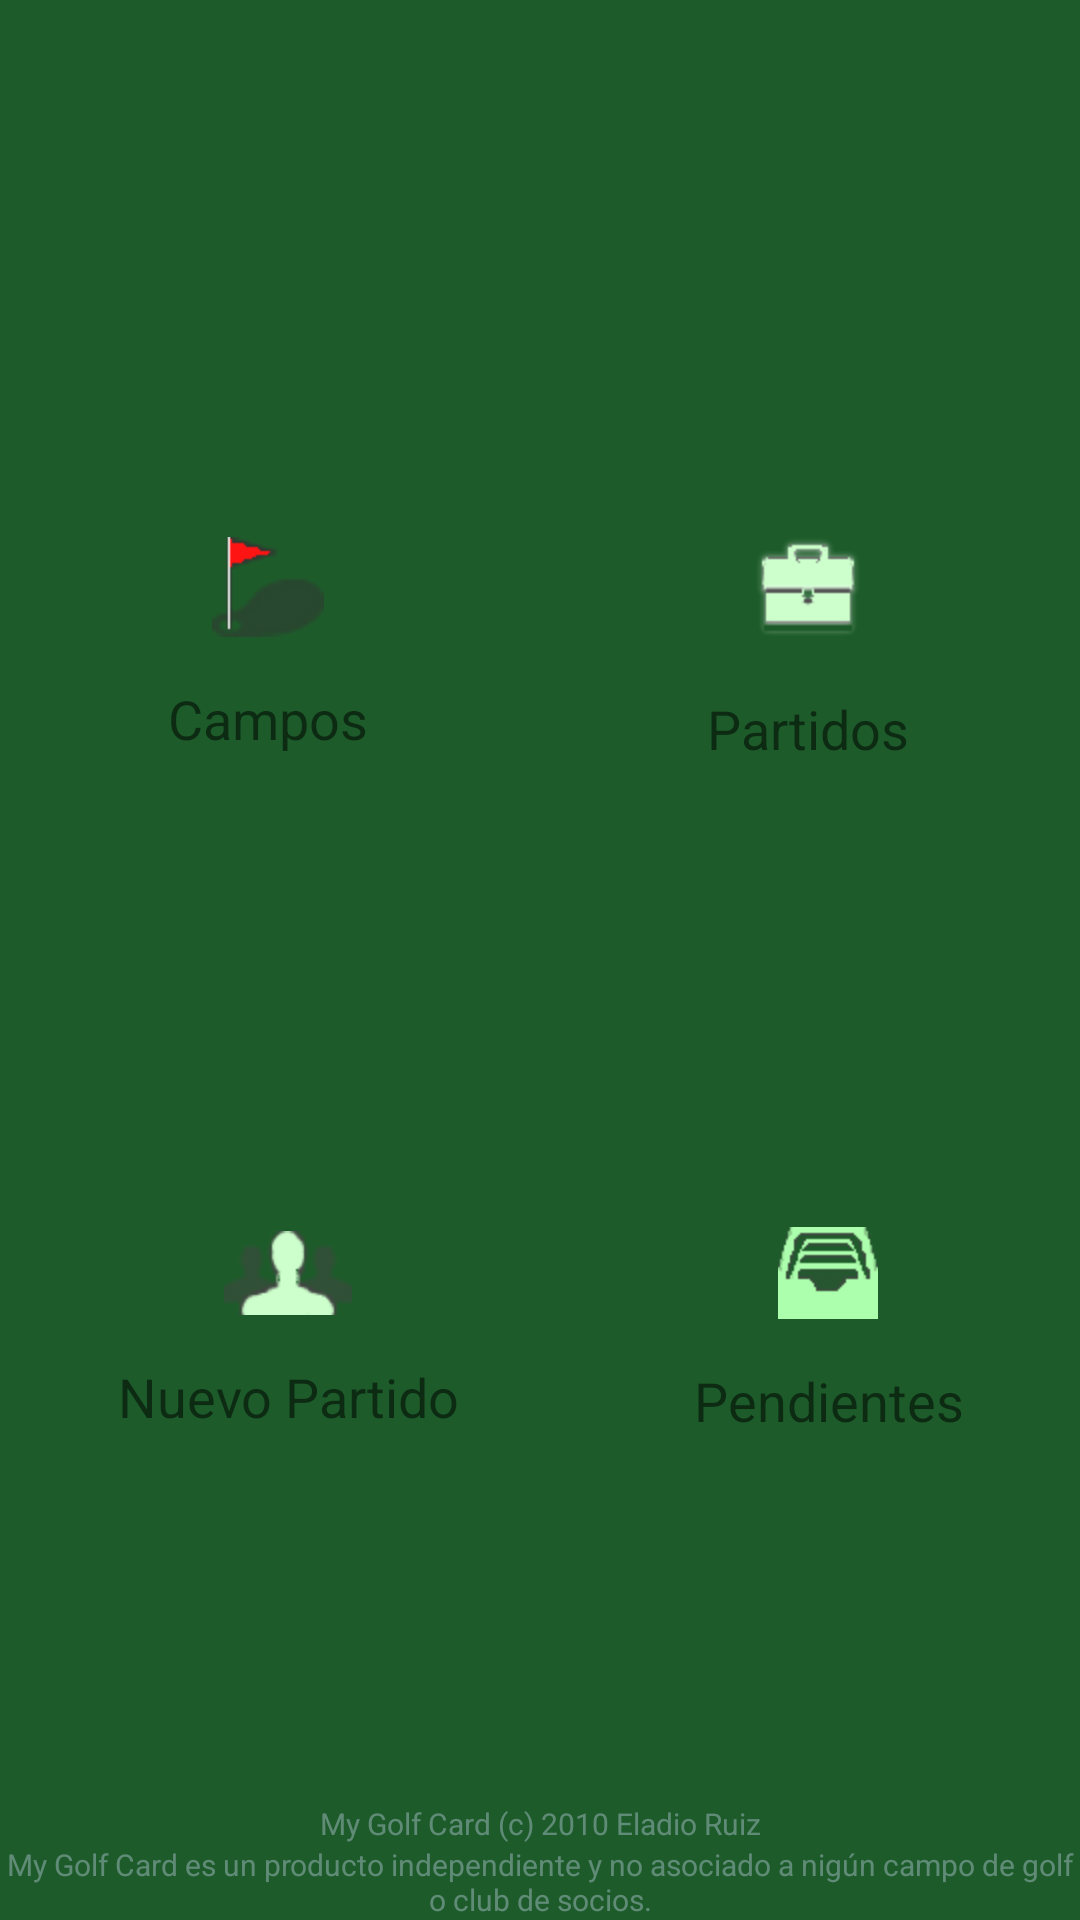

Icon click points for this 1080 x 1920 phone screenshot, format (x=x, y=y):
courses: (x=249, y=583)
